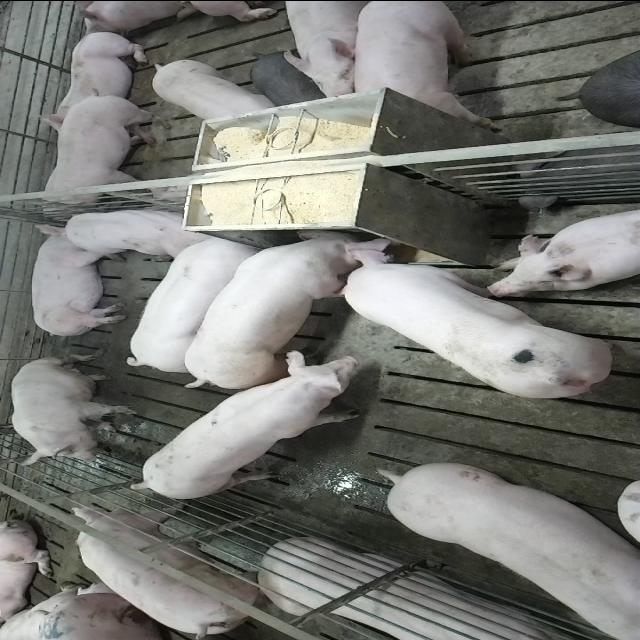Feeding: (333, 244, 618, 400), (178, 221, 390, 387)
Lateral_lying: (261, 539, 596, 640), (28, 222, 128, 338)
Sitting: (8, 355, 138, 464)
Standing: (381, 464, 640, 640), (130, 356, 388, 504), (67, 507, 279, 640), (122, 231, 264, 372), (353, 1, 504, 132), (30, 90, 172, 216), (278, 0, 381, 101), (150, 56, 276, 125), (248, 48, 326, 106)
Sternal_lying: (488, 206, 640, 294), (34, 29, 154, 127), (47, 204, 207, 260)
